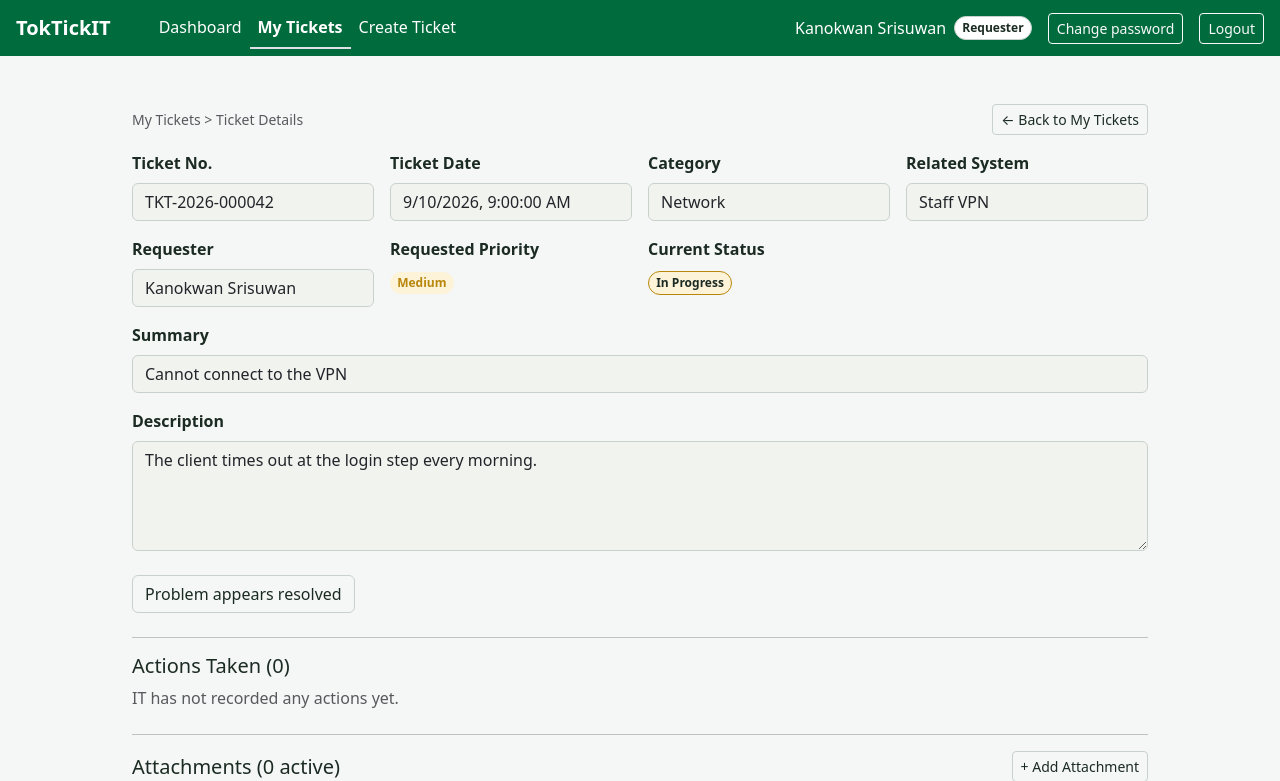
Requester Ticket Detail: problem appears resolved › asks for confirmation, sends the signal, confirms it inline, and leaves the status badge exactly as it was
The image size is (1280, 781).
Check: the field labelled "Ticket No." is shown, box [132,183,374,221]
Click the button "Problem appears resolved".
click(243, 594)  # box [132,575,355,613]
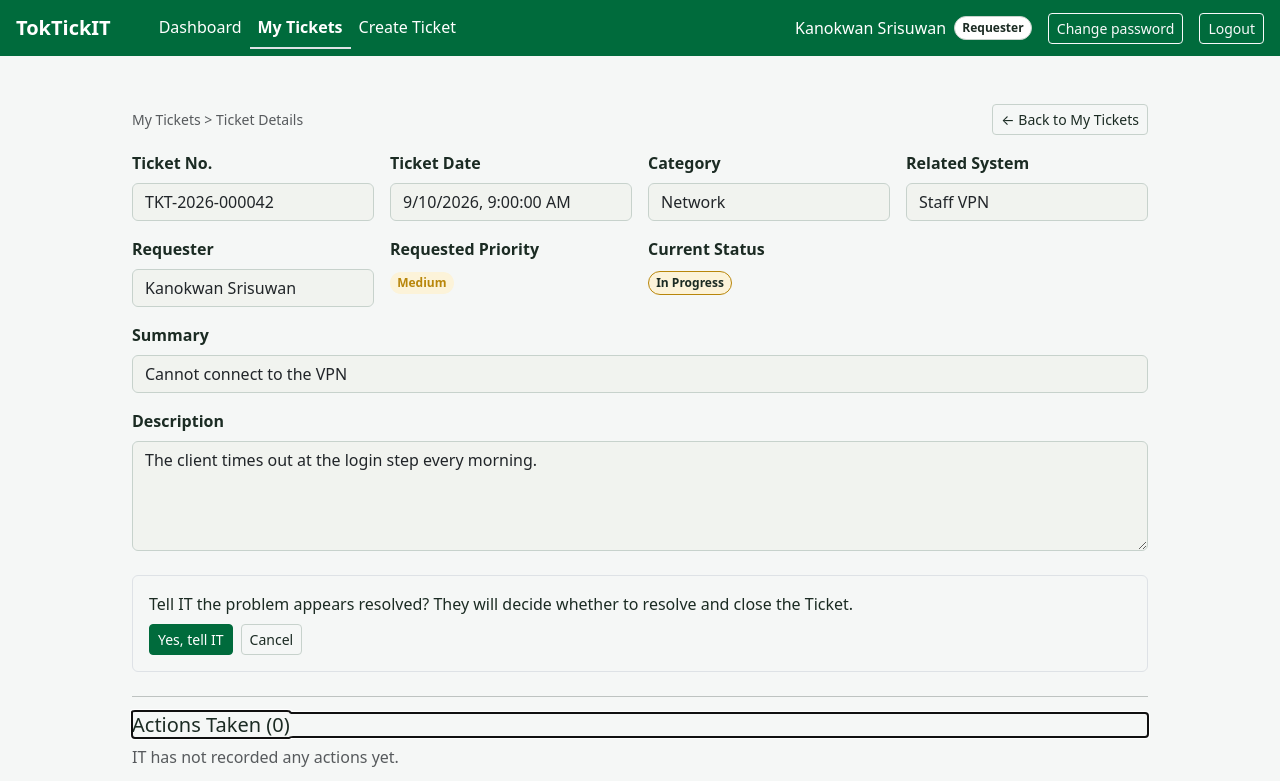
Check: the element named "Confirm the problem appears resolved" shows "Tell IT the problem appears resolved?", box [149,593,853,615]
Click the button "Yes, tell IT".
click(191, 640)  # box [149,624,233,655]
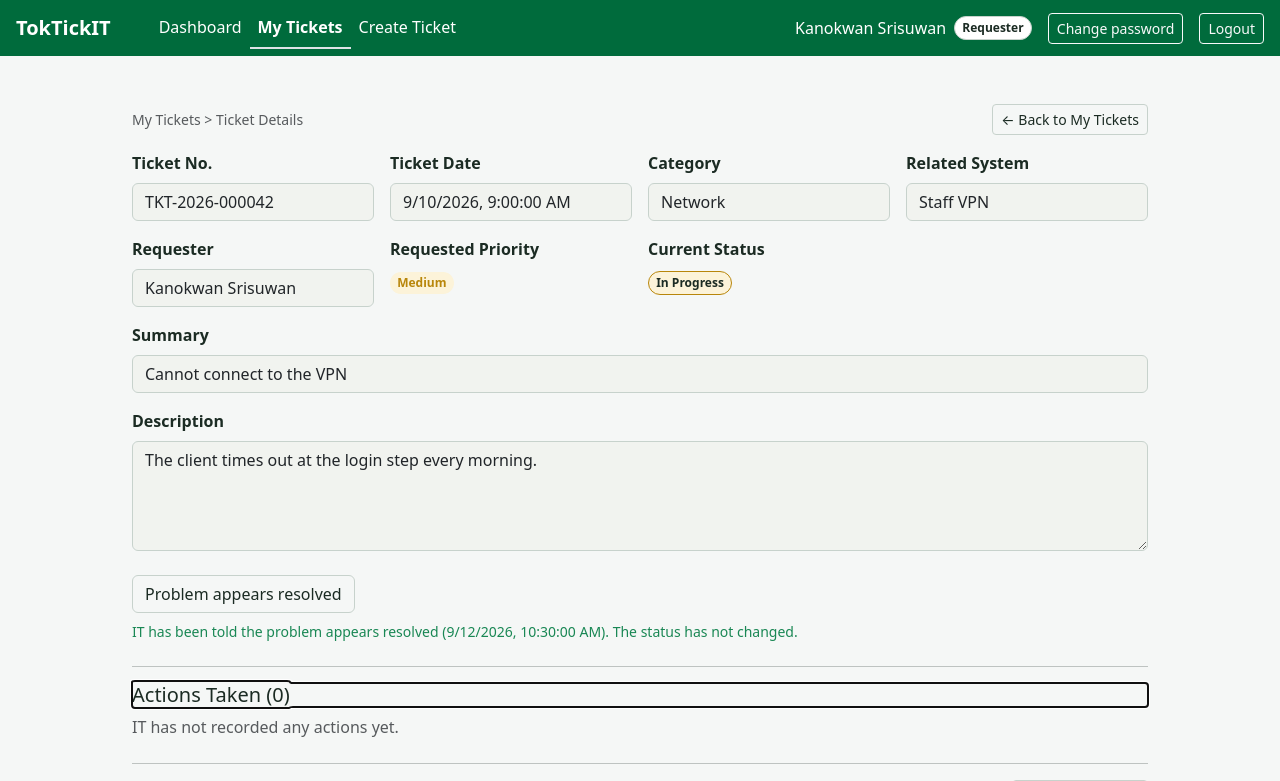
Check: the text "IT has been told the problem appears resolved" is shown, box [132,622,446,641]
Check: the message shows "The status has not changed", box [601,622,798,641]
Check: the button "Problem appears resolved" is enabled, box [132,575,355,613]
